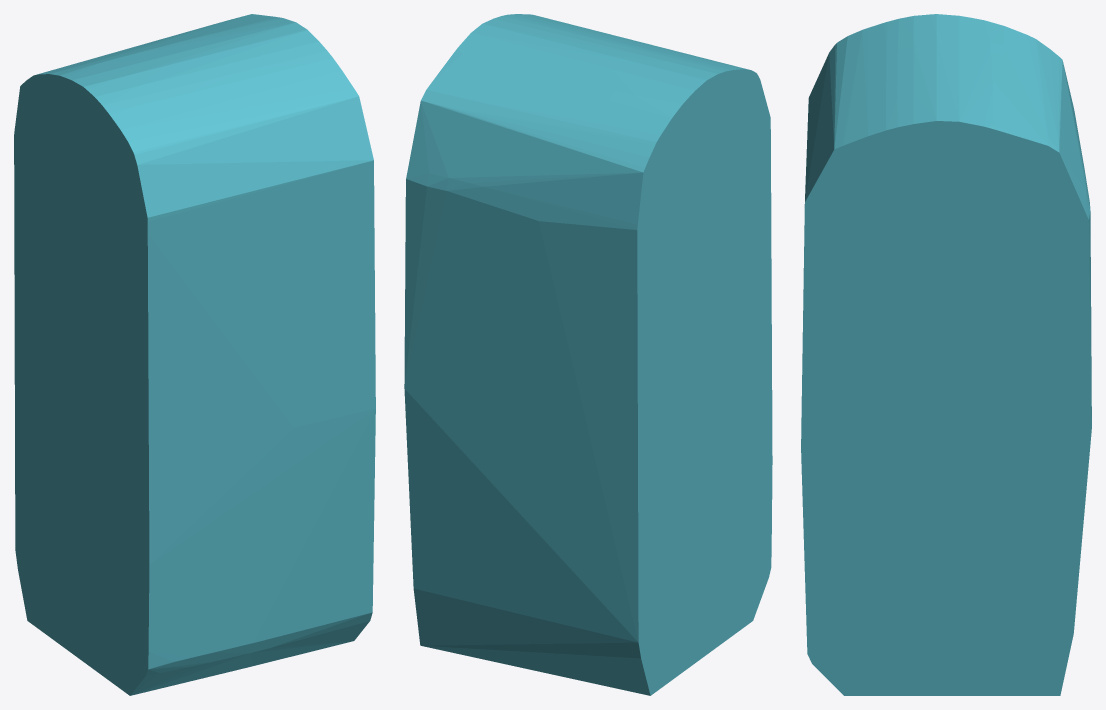
3 views of the same model, side by side, from view 1: azimuth 30°, elevation 25°; view 2: azimuth 150°, elevation 25°; view 3: azimuth 270°, elevation 25° (orthographic).
Size of the model in its own units: 0.034 by 0.0836 by 0.0383.
